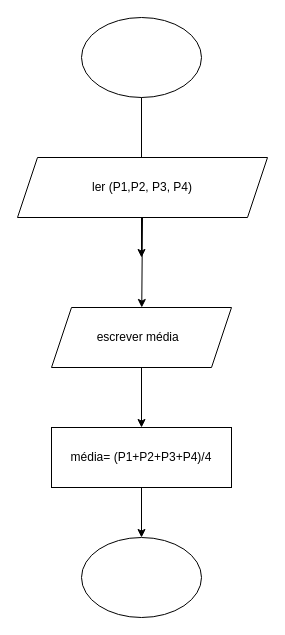
Image size: 285x635. Some labels were removed from this diagram. Here are the shapes that lost their labels. From the top down, the centre of each, then its label:
At (x=141, y=57): "inicio".
At (x=141, y=577): "fim".
